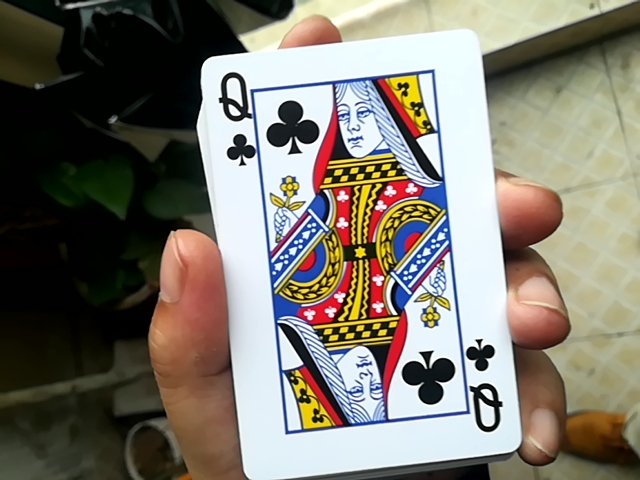mh q: (197, 14, 522, 477)
